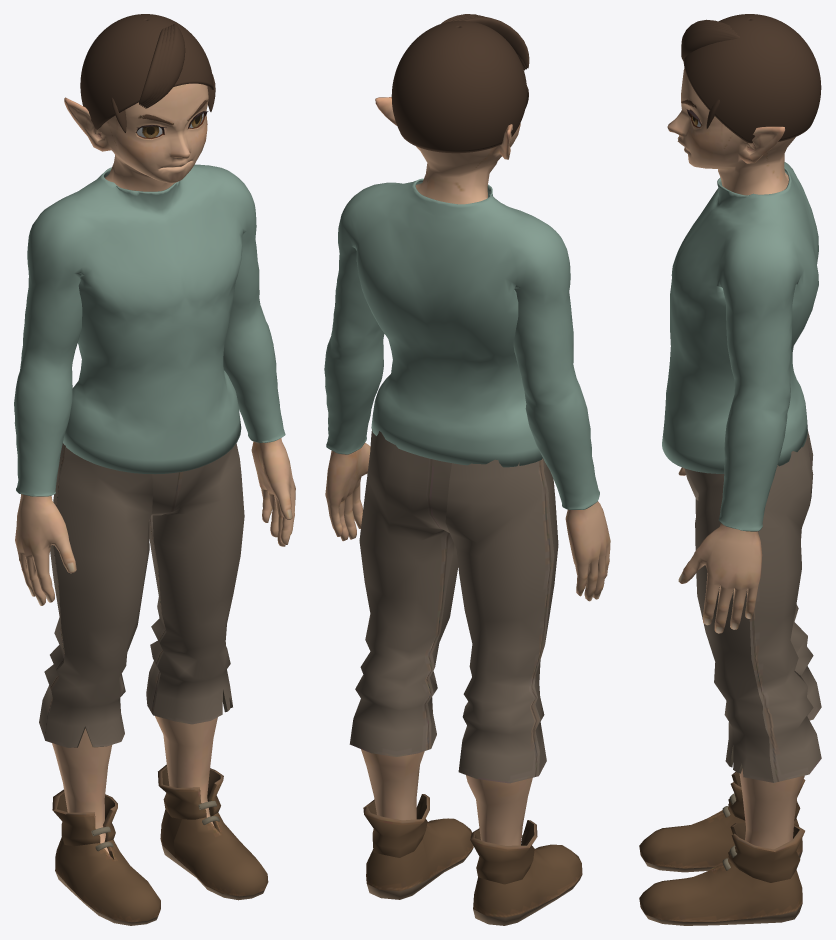
The model's file is boy-light.glb.
3 views of the same model, side by side, from view 1: azimuth 30°, elevation 25°; view 2: azimuth 150°, elevation 25°; view 3: azimuth 270°, elevation 25° (orthographic).
Parts seen in each view (by area): view 1: boy • Plain shirt • neutral sage, boy • Pant_043__Mt_Lower_043, boy • continuous skin, Hair • short • fitted crown, Hair • short • side sweep 0, Hair • short • side sweep 4; view 2: boy • Pant_043__Mt_Lower_043, boy • Plain shirt • neutral sage, boy • continuous skin, Hair • short • fitted crown, Hair • short • side sweep 4; view 3: boy • Plain shirt • neutral sage, boy • Pant_043__Mt_Lower_043, boy • continuous skin, Hair • short • fitted crown, Hair • short • side sweep 0.
Part boxes in pixels (left/top/right/bottom): boy • Plain shirt • neutral sage: left=14, top=164, right=285, bottom=496; boy • Pant_043__Mt_Lower_043: left=39, top=443, right=268, bottom=925; boy • continuous skin: left=15, top=83, right=295, bottom=854; Hair • short • fitted crown: left=80, top=14, right=213, bottom=129; Hair • short • side sweep 0: left=145, top=24, right=185, bottom=108; Hair • short • side sweep 4: left=139, top=28, right=165, bottom=104; boy • Pant_043__Mt_Lower_043: left=349, top=429, right=582, bottom=925; boy • Plain shirt • neutral sage: left=324, top=178, right=599, bottom=509; boy • continuous skin: left=325, top=97, right=610, bottom=845; Hair • short • fitted crown: left=391, top=21, right=526, bottom=153; Hair • short • side sweep 4: left=461, top=17, right=529, bottom=68; boy • Plain shirt • neutral sage: left=662, top=162, right=818, bottom=531; boy • Pant_043__Mt_Lower_043: left=639, top=431, right=821, bottom=925; boy • continuous skin: left=667, top=68, right=804, bottom=849; Hair • short • fitted crown: left=683, top=14, right=821, bottom=143; Hair • short • side sweep 0: left=681, top=27, right=739, bottom=61.
Size of the model in its own units: 0.5778 by 1.76 by 0.3363.
Materials: 11 (8 with a texture image).
